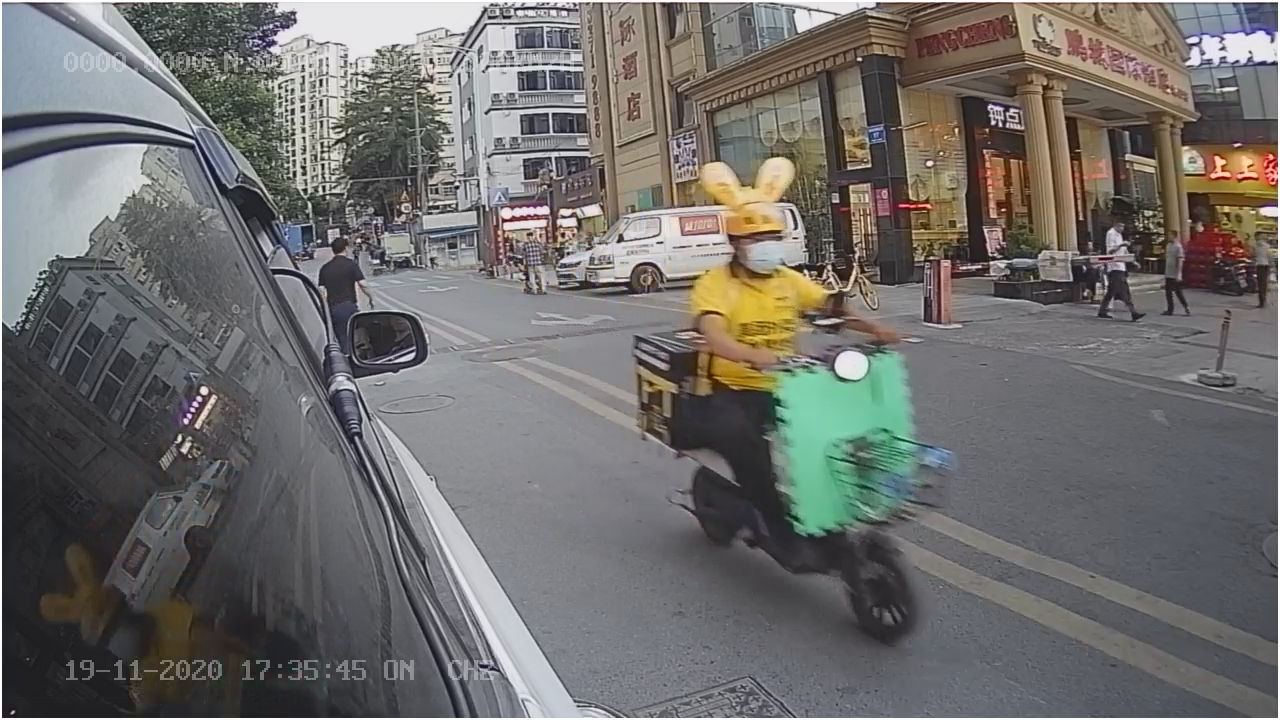person: (683, 206, 836, 343)
